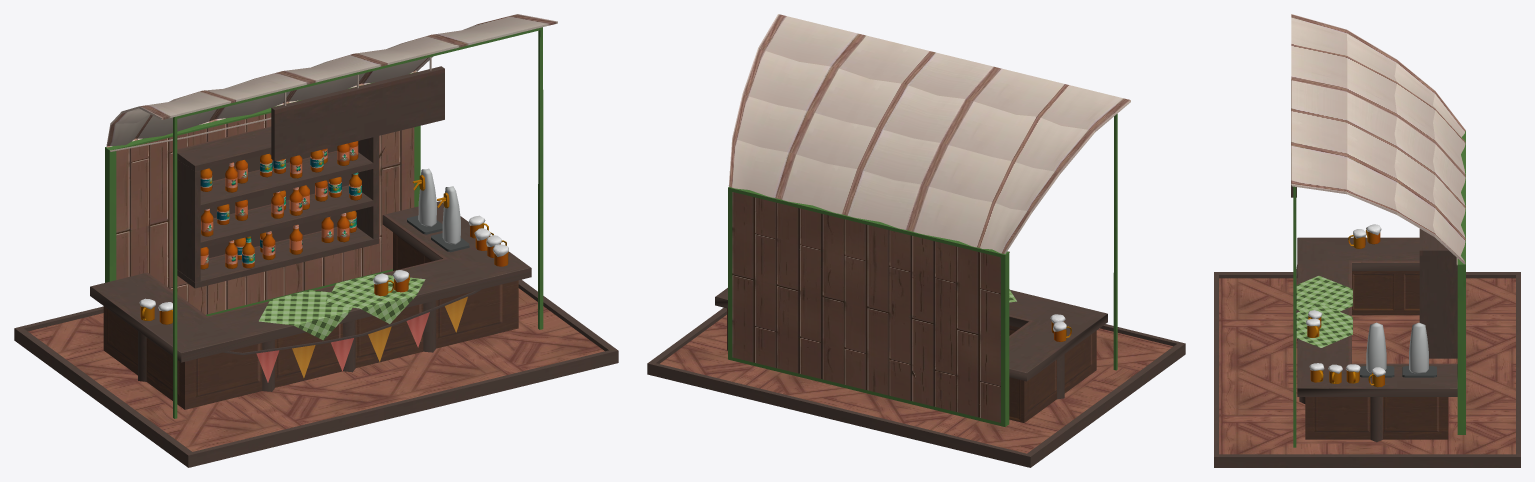
Rendered from booth-food01.glb.
3 renders of one model, left to right at view 1: azimuth 30°, elevation 25°; view 2: azimuth 150°, elevation 25°; view 3: azimuth 270°, elevation 25°, orthographic. The views are drawn at different scales.
Visible parts, largest first — view 1: Booth_Food01; view 2: Booth_Food01; view 3: Booth_Food01.
Part boxes in pixels (left/top/right/bottom): Booth_Food01: left=14, top=14, right=618, bottom=467; Booth_Food01: left=647, top=14, right=1185, bottom=467; Booth_Food01: left=1214, top=14, right=1520, bottom=467.
Size of what is drawn, in the model's own units: 7.11 by 4.95 by 4.98.
Materials: 10 (10 with a texture image).
